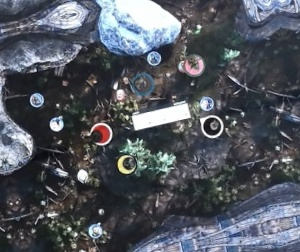black: (199, 112, 226, 140)
brown_turquoise: (128, 69, 156, 96)
lime_green_violet: (113, 150, 141, 178)
pink_green: (179, 50, 206, 78)
red: (87, 119, 114, 147)
